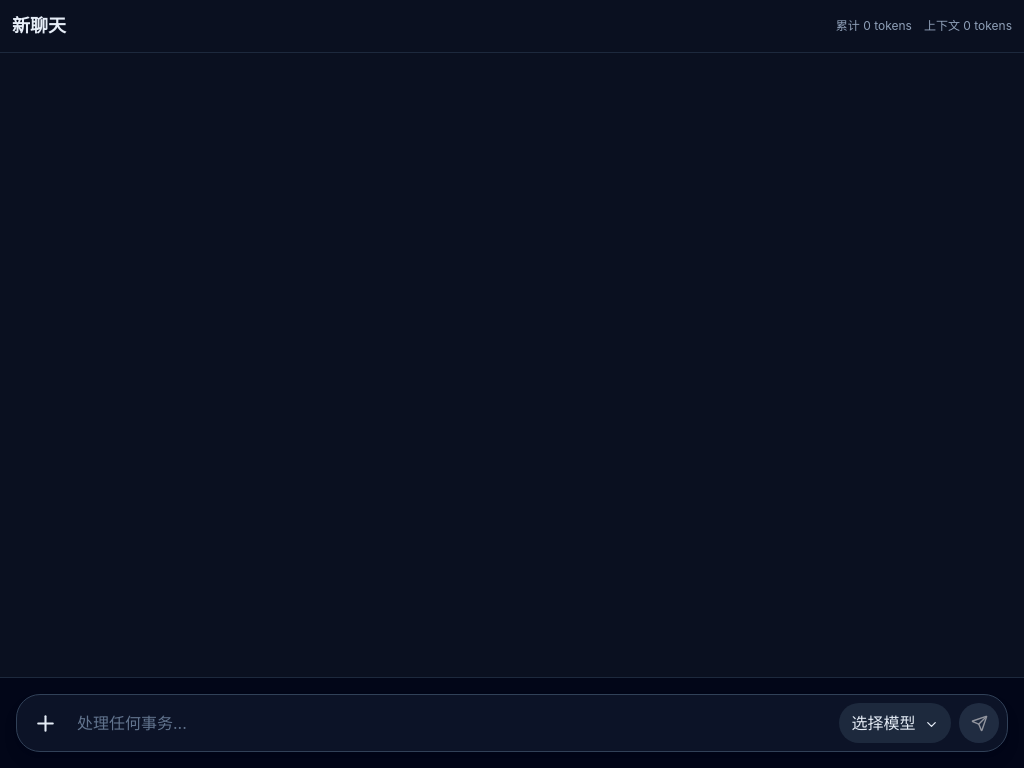
refreshes persisted tokens immediately when a local stream completed
Type "继续" into the text box with placeholder "处理任何事务..." at (452, 723), box [73,703,832,743]
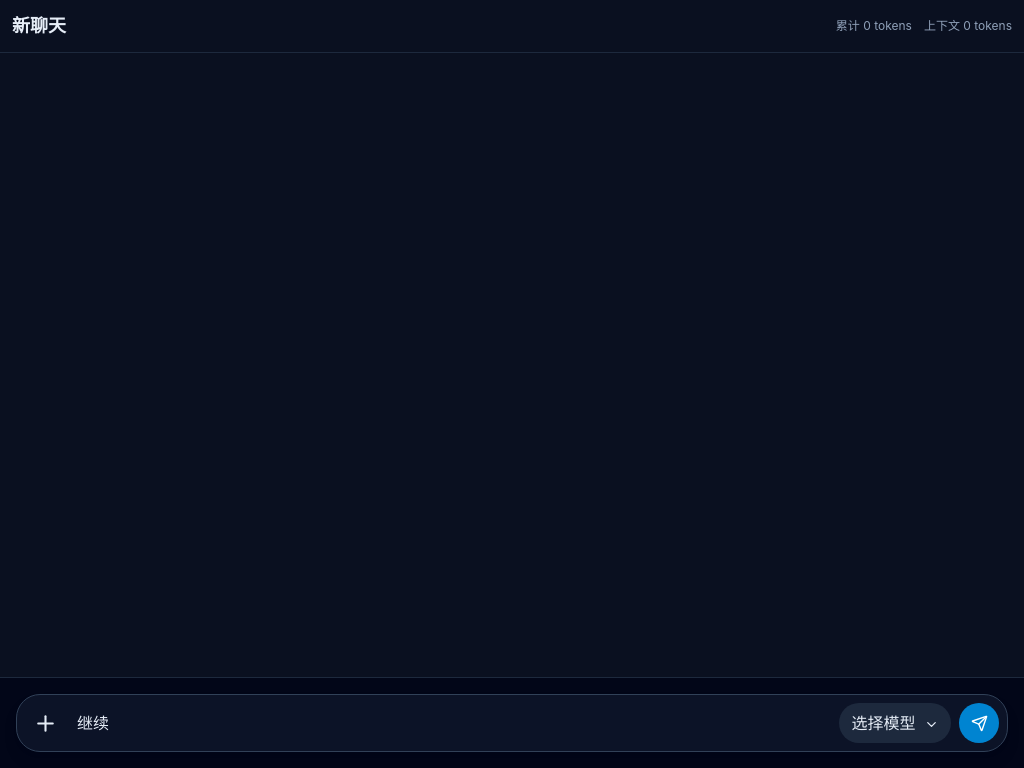
Click the button titled "发送" at (979, 723), box [959,703,999,743]
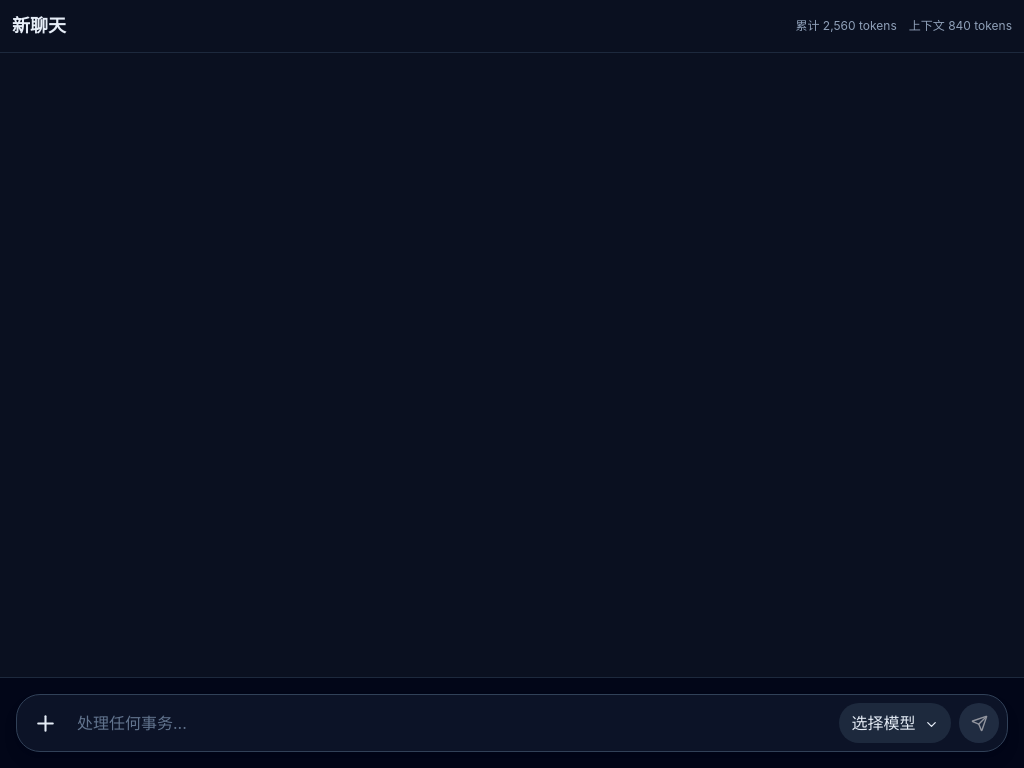
Now the element named "会话 Token 统计" shows "累计 2,560 tokens", box [796,18,1012,34]
Now the element named "会话 Token 统计" shows "上下文 840 tokens", box [796,18,1012,34]
